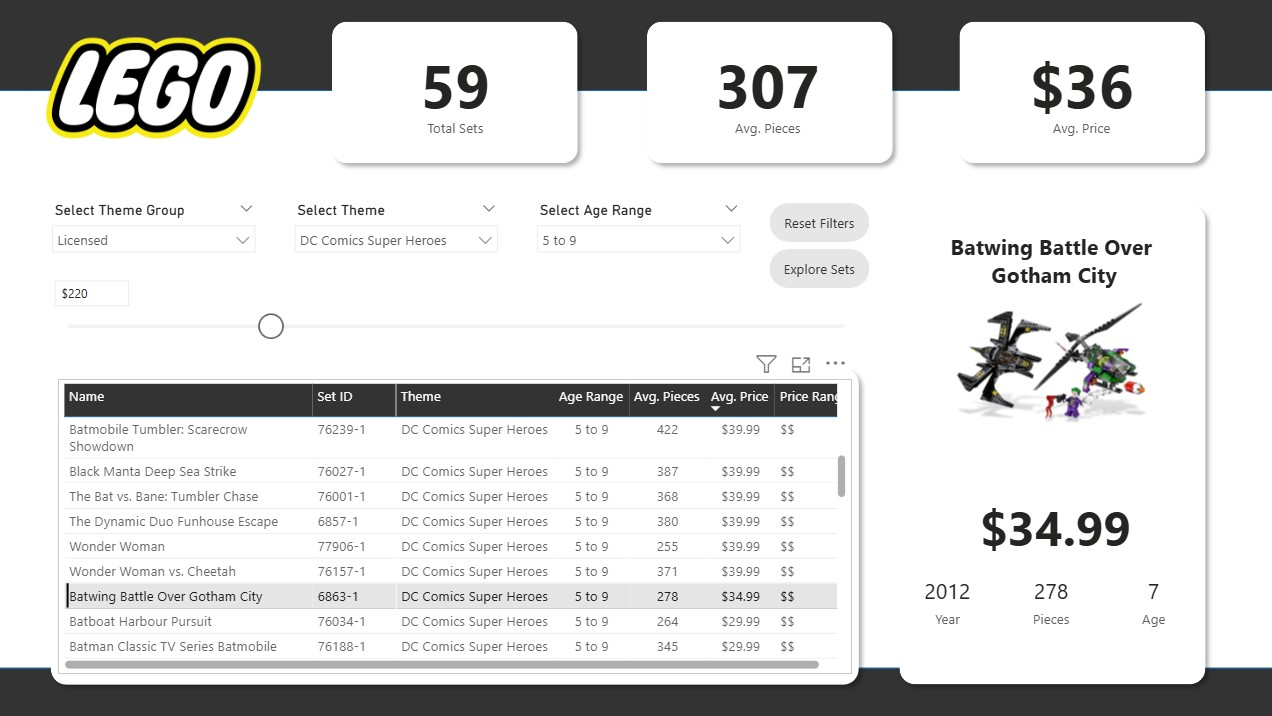

The dashboard page shown, as its layout file describes it:
{"tool":"powerbi","page":{"name":"LEGO Set Finder","canvas":[1280,720],"ordinal":0},"visuals":[{"type":"shape","box":[0,0,1280.3,91.9],"z":0},{"type":"shape","box":[952.3,13.7,263.5,159.2],"z":1000},{"type":"image","box":[43.9,20.6,223.7,142.7],"z":2000},{"type":"shape","box":[0,668.3,1280.3,52.1],"z":3000},{"type":"shape","box":[325.2,13.7,263.5,159.2],"z":4000},{"type":"shape","box":[639.5,13.7,263.5,159.2],"z":5000},{"type":"card","fields":{"Values":["Measure Table.Avg. Pieces"]},"box":[671.7,37,197.6,108.4],"z":6000},{"type":"card","fields":{"Values":["Measure Table.Total Sets"]},"box":[358.1,37,197.6,108.4],"z":7000},{"type":"shape","box":[43.9,359.5,826.1,334.8],"z":8000},{"type":"shape","box":[891.9,197.6,323.8,496.7],"z":9000},{"type":"card","fields":{"Values":["Measure Table.Avg. Price"]},"box":[985.3,37,197.6,108.4],"z":10000},{"type":"slicer","fields":{"Values":["lego_sets.themeGroup"]},"box":[43.9,197.6,223.7,90.6],"z":11000},{"type":"slicer","fields":{"Values":["lego_sets.Age Range"]},"box":[528.3,197.6,223.7,90.6],"z":12000},{"type":"slicer","fields":{"Values":["lego_sets.theme"]},"box":[286.1,197.6,223.7,90.6],"z":13000},{"type":"tableEx","fields":{"Values":["lego_sets.name","lego_sets.set_id","lego_sets.theme","lego_sets.Age Range","Measure Table.Avg. Pieces","Measure Table.Avg. Price","lego_sets.Price Range"]},"box":[60.4,380.1,793.1,295],"z":14000},{"type":"card","fields":{"Values":["Measure Table.Selected Set"]},"box":[907,219.6,297.8,79.6],"z":15000},{"type":"card","fields":{"Values":["Measure Table.Selected Price"]},"box":[908.4,487.1,297.8,79.6],"z":16000},{"type":"card","fields":{"Values":["Measure Table.Selected Year"]},"box":[904.3,566.7,91.9,71.4],"z":17000},{"type":"card","fields":{"Values":["Measure Table.Selected Pieces"]},"box":[1007.2,566.7,91.9,71.4],"z":18000},{"type":"card","fields":{"Values":["Measure Table.Selected Age"]},"box":[1110.1,566.7,91.9,71.4],"z":19000},{"type":"ImgViewerVisual1455487926945","fields":{"Values":["lego_sets.imageURL"]},"box":[953.7,299.1,200.3,200.3],"z":20000},{"type":"slicer","fields":{"Values":["Max Price.Max Price"]},"box":[43.9,271.7,826.1,78.2],"z":21000},{"type":"actionButton","box":[771.6,204.2,100.3,39.1],"z":22000},{"type":"actionButton","box":[771.6,249.5,100.3,39.1],"z":23000}]}

Visuals, with their boxes in screenshot pixels (x1, y1, x2, y2), scaled from the page's 1280x720 canvas onto the 1272x716 screenshot:
shape: <region>0, 0, 1271, 91</region>
shape: <region>946, 14, 1208, 172</region>
image: <region>44, 20, 266, 162</region>
shape: <region>0, 665, 1271, 715</region>
shape: <region>323, 14, 585, 172</region>
shape: <region>636, 14, 897, 172</region>
card - Measure Table.Avg. Pieces: <region>668, 37, 864, 145</region>
card - Measure Table.Total Sets: <region>356, 37, 552, 145</region>
shape: <region>44, 358, 865, 690</region>
shape: <region>886, 197, 1208, 690</region>
card - Measure Table.Avg. Price: <region>979, 37, 1176, 145</region>
slicer - lego_sets.themeGroup: <region>44, 197, 266, 287</region>
slicer - lego_sets.Age Range: <region>525, 197, 747, 287</region>
slicer - lego_sets.theme: <region>284, 197, 507, 287</region>
tableEx - lego_sets.name x lego_sets.set_id: <region>60, 378, 848, 671</region>
card - Measure Table.Selected Set: <region>901, 218, 1197, 298</region>
card - Measure Table.Selected Price: <region>903, 484, 1199, 564</region>
card - Measure Table.Selected Year: <region>899, 564, 990, 635</region>
card - Measure Table.Selected Pieces: <region>1001, 564, 1092, 635</region>
card - Measure Table.Selected Age: <region>1103, 564, 1194, 635</region>
ImgViewerVisual1455487926945 - lego_sets.imageURL: <region>948, 297, 1147, 497</region>
slicer - Max Price.Max Price: <region>44, 270, 865, 348</region>
actionButton: <region>767, 203, 866, 242</region>
actionButton: <region>767, 248, 866, 287</region>
